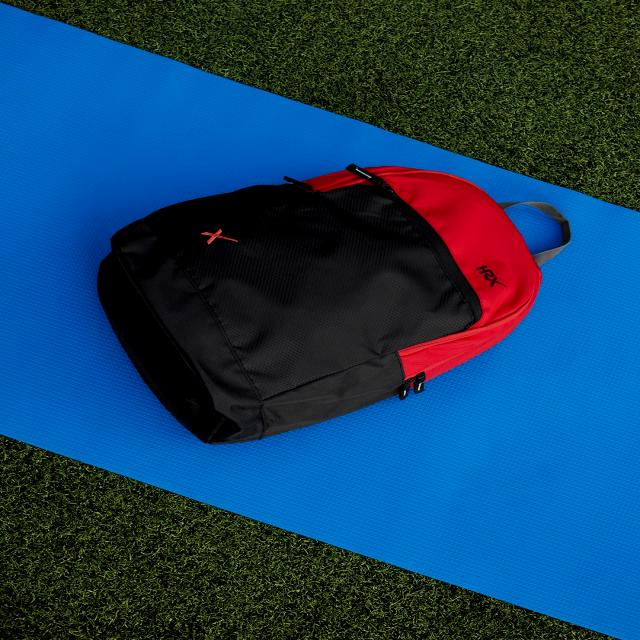backpack: (96, 164, 572, 446)
